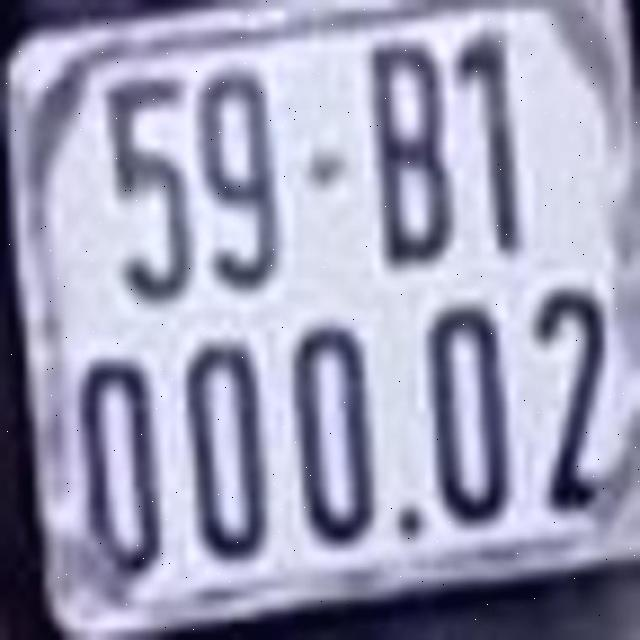0: (426, 294, 515, 526), (293, 316, 380, 548), (78, 353, 164, 578), (186, 333, 270, 561)
1: (456, 25, 538, 257)
2: (529, 278, 632, 515)
5: (101, 72, 195, 304)
9: (196, 62, 284, 295)
B: (366, 35, 458, 271)
